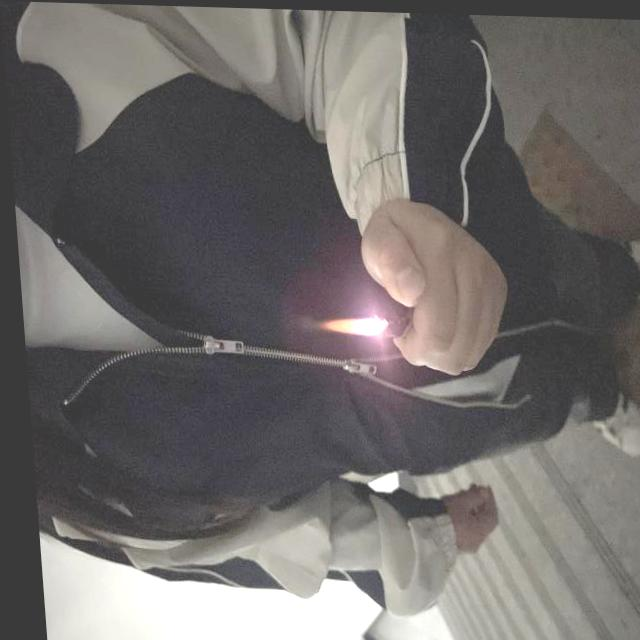Fire: (310, 312, 379, 334)
